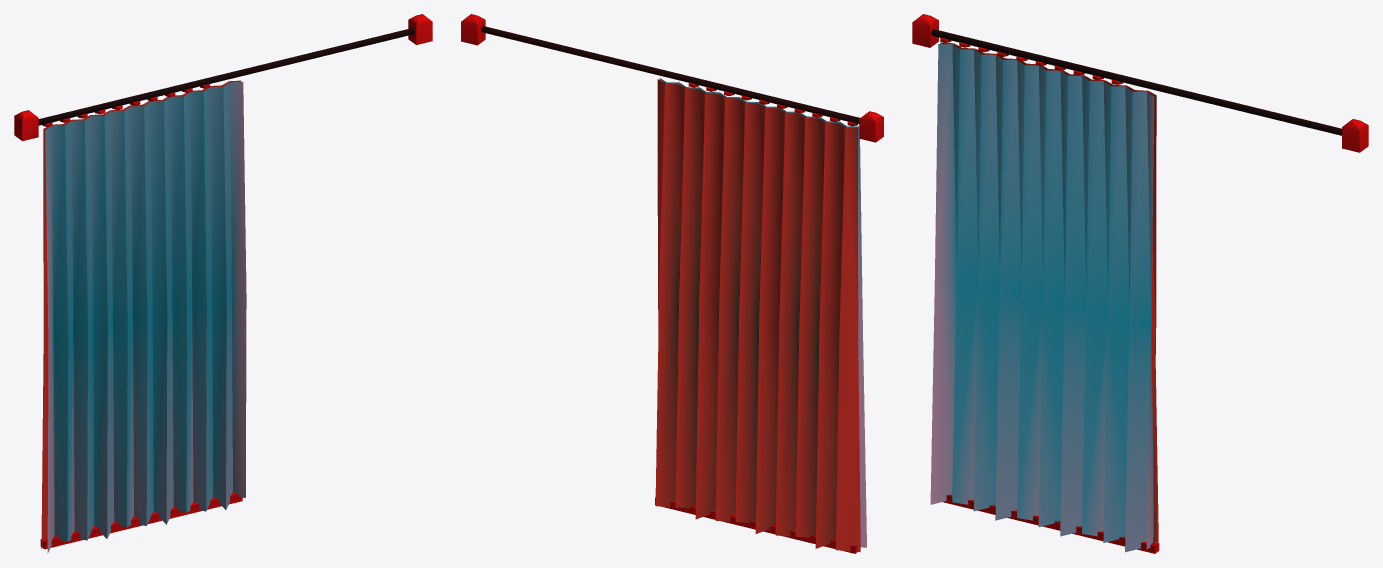
The model's file is CI_Bathroom_ShowerRail.glb.
3 renders of one model, left to right at view 1: azimuth 30°, elevation 25°; view 2: azimuth 150°, elevation 25°; view 3: azimuth 330°, elevation 25°, orthographic. The views are drawn at different scales.
Visible parts, largest first — view 1: CI_Bathroom_ShowerRail; view 2: CI_Bathroom_ShowerRail; view 3: CI_Bathroom_ShowerRail.
Part boxes in pixels (x1,y1,x2,y2): CI_Bathroom_ShowerRail: (14,14,432,553); CI_Bathroom_ShowerRail: (461,14,883,553); CI_Bathroom_ShowerRail: (912,14,1368,553).
Size of the model in its own units: 1.76 by 1.8 by 0.1045.
